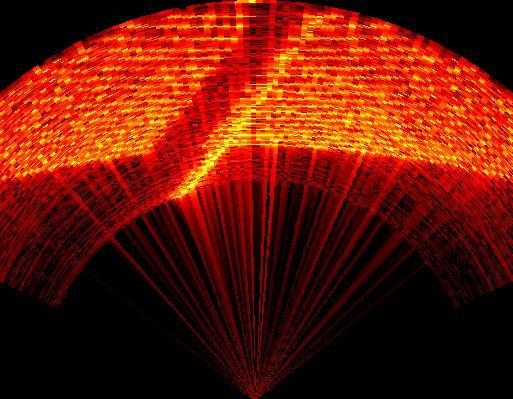pipe: (142, 2, 318, 193)
